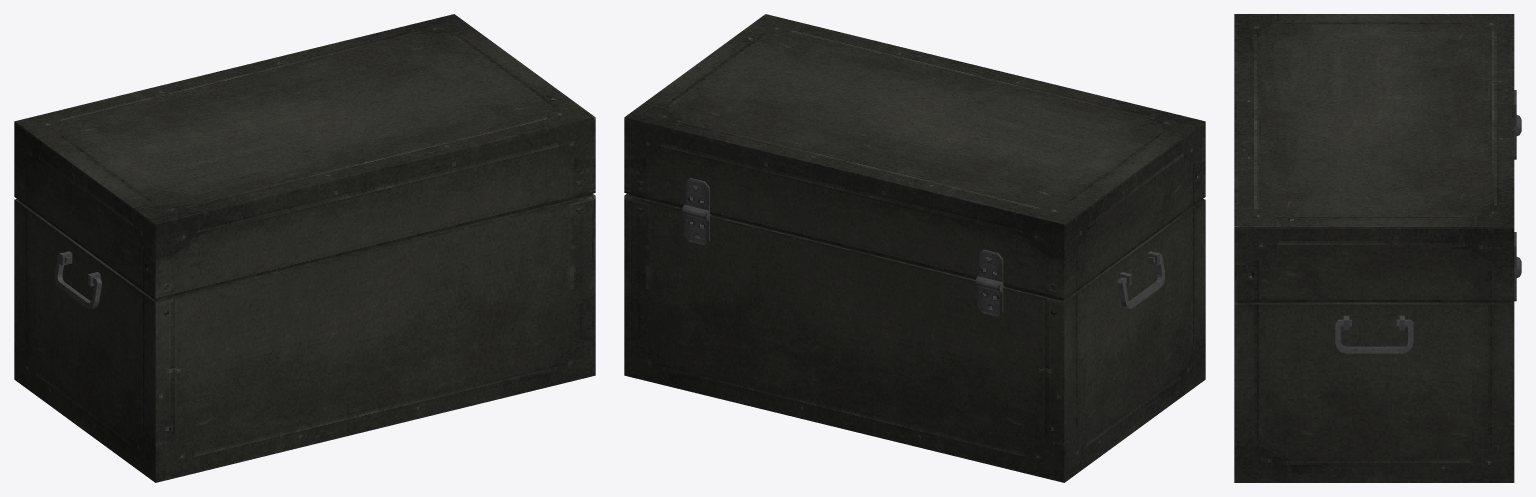
The model's file is wooden_crate_2_b.glb.
3 views of the same model, side by side, from view 1: azimuth 30°, elevation 25°; view 2: azimuth 150°, elevation 25°; view 3: azimuth 270°, elevation 25° (orthographic).
Visible parts, largest first — view 1: wooden_crate_2_b, wooden_crate_2_b_lid; view 2: wooden_crate_2_b, wooden_crate_2_b_lid; view 3: wooden_crate_2_b_lid, wooden_crate_2_b.
Part boxes in pixels (<box>): wooden_crate_2_b: <box>14,193,595,482</box>; wooden_crate_2_b_lid: <box>14,14,595,300</box>; wooden_crate_2_b: <box>624,193,1205,482</box>; wooden_crate_2_b_lid: <box>624,14,1205,300</box>; wooden_crate_2_b_lid: <box>1234,14,1516,303</box>; wooden_crate_2_b: <box>1234,115,1521,482</box>.
Bounding box in the file's own units: 0.9492 × 0.505 × 0.513.
Materials: 1 (1 with a texture image).
